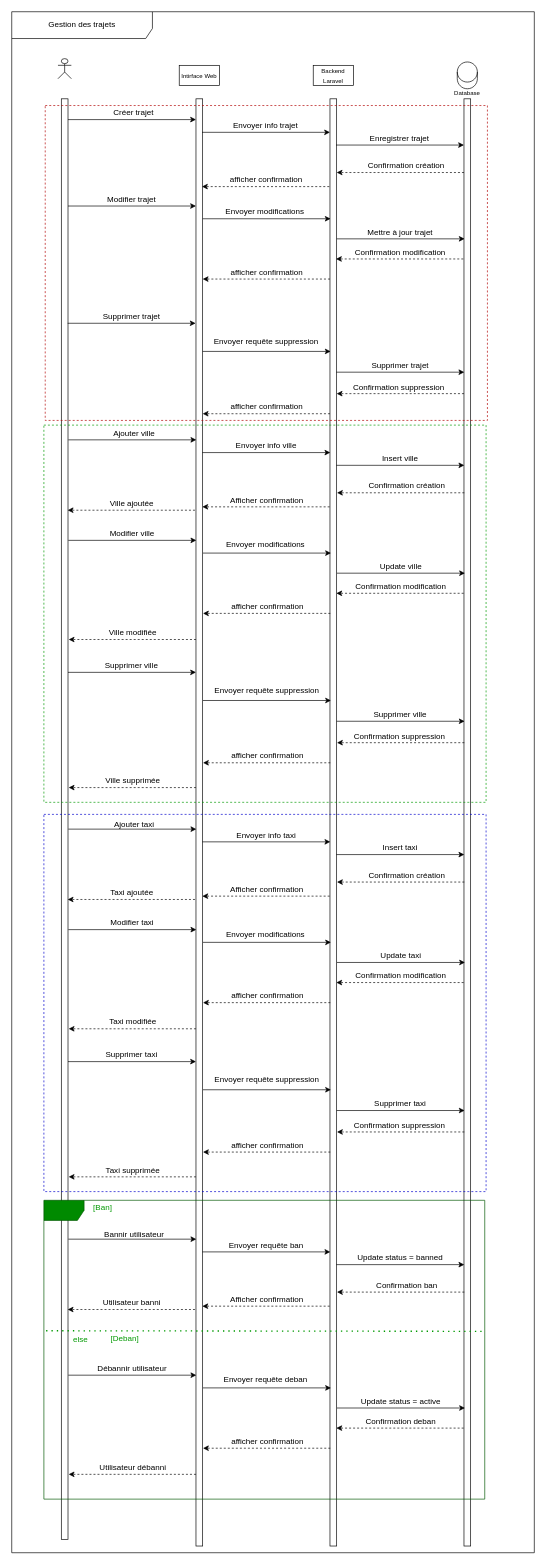
Some shapes in this 546 by 1564 pixel diagram are drawn without their labels. Here are the shapes that lost their labels. From the top down, the box of each, then its label:
(57, 58, 71, 79): Administrateur
(43, 1200, 485, 1499): alt
